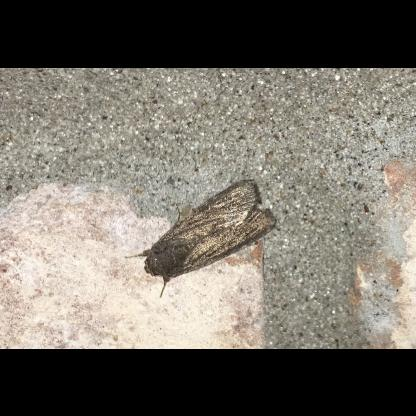Fall Armyworm Moth: (122, 176, 278, 298)
